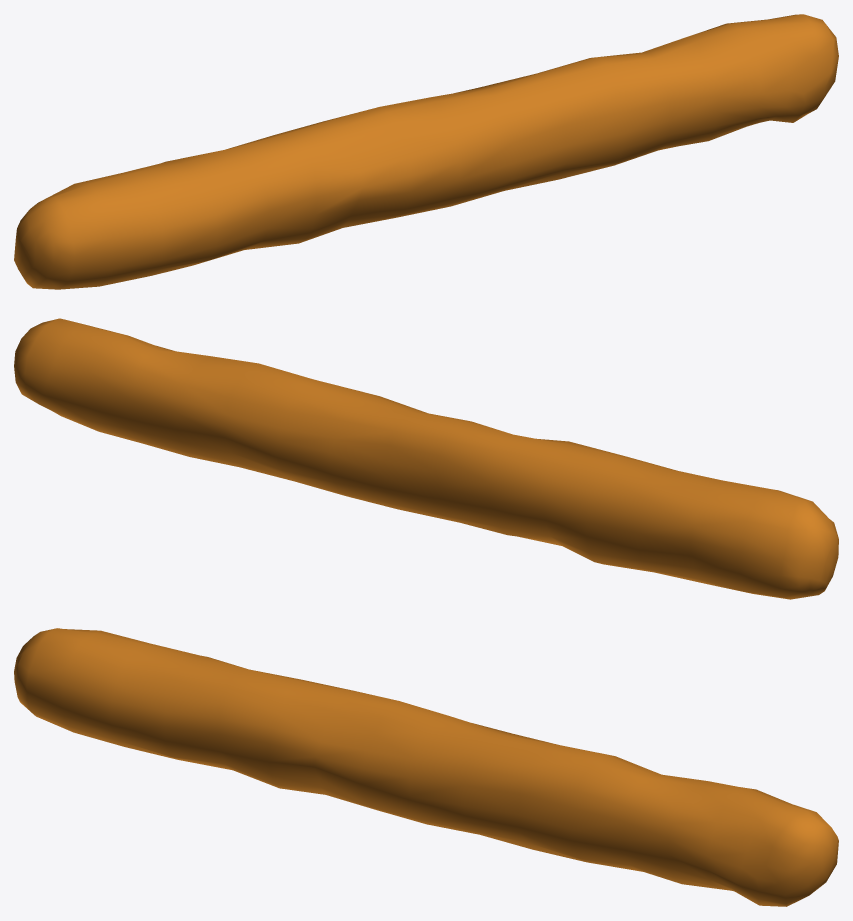
3 renders of one model, top to bottom at view 1: azimuth 30°, elevation 25°; view 2: azimuth 150°, elevation 25°; view 3: azimuth 330°, elevation 25°, orthographic.
Bounding box in the file's own units: 1 × 0.1213 × 0.1145.
